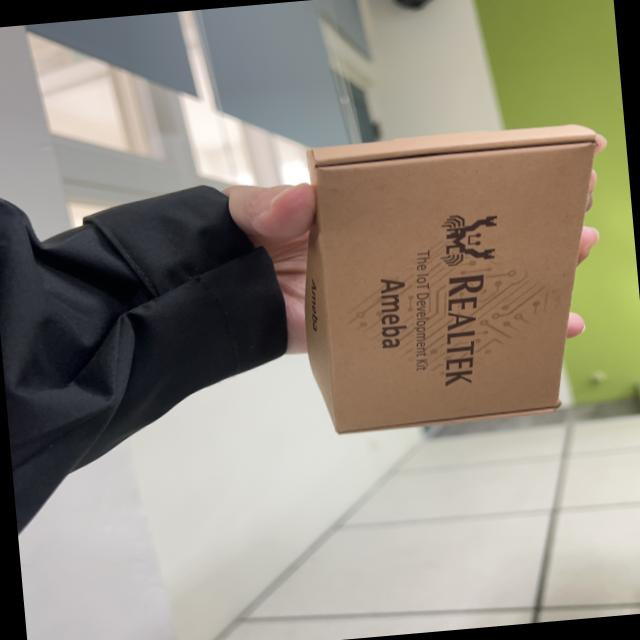box: (281, 100, 638, 446)
